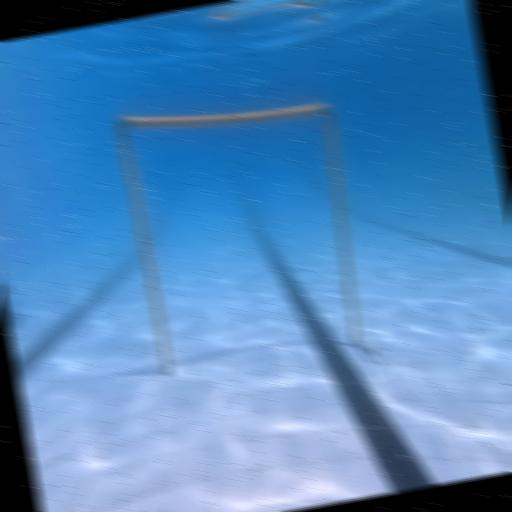gate: (113, 80, 379, 394)
